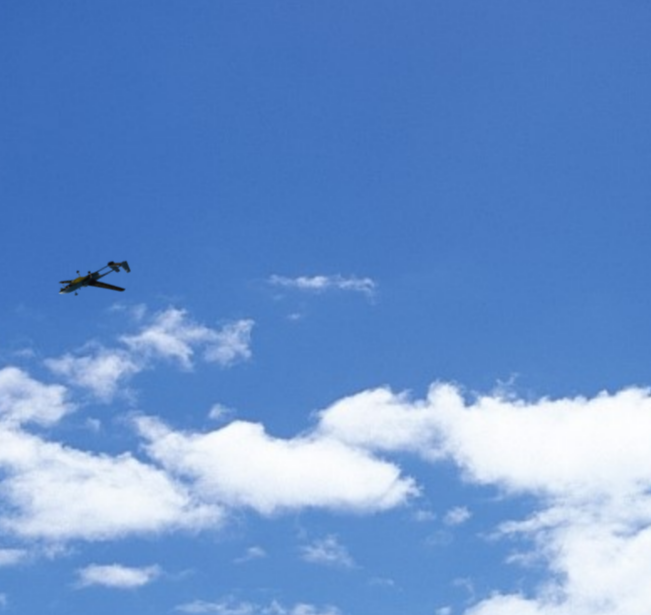military drone: (58, 260, 130, 296)
